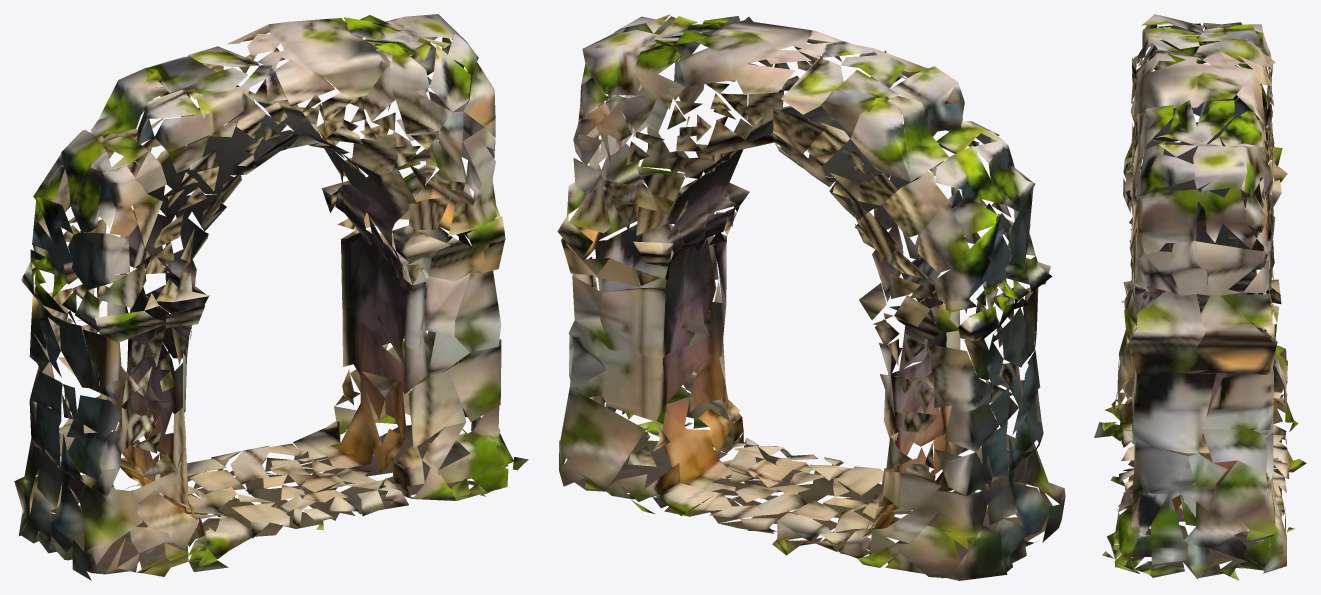
The model's file is Ancient_Archway_town.glb.
3 views of the same model, side by side, from view 1: azimuth 30°, elevation 25°; view 2: azimuth 150°, elevation 25°; view 3: azimuth 270°, elevation 25° (orthographic). The views are drawn at different scales.
Parts seen in each view (by area): view 1: Ancient_Archway; view 2: Ancient_Archway; view 3: Ancient_Archway.
Part boxes in pixels (x1,y1,x2,y2): Ancient_Archway: (14,14,528,580); Ancient_Archway: (557,14,1065,580); Ancient_Archway: (1094,14,1306,580).
Size of the model in its own units: 1.9 by 1.85 by 0.8319.
1 material, 1 textured.
